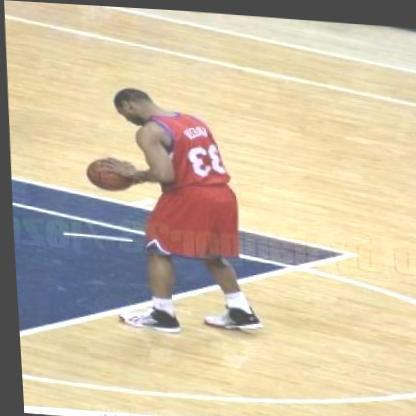basketball: (80, 151, 134, 195)
